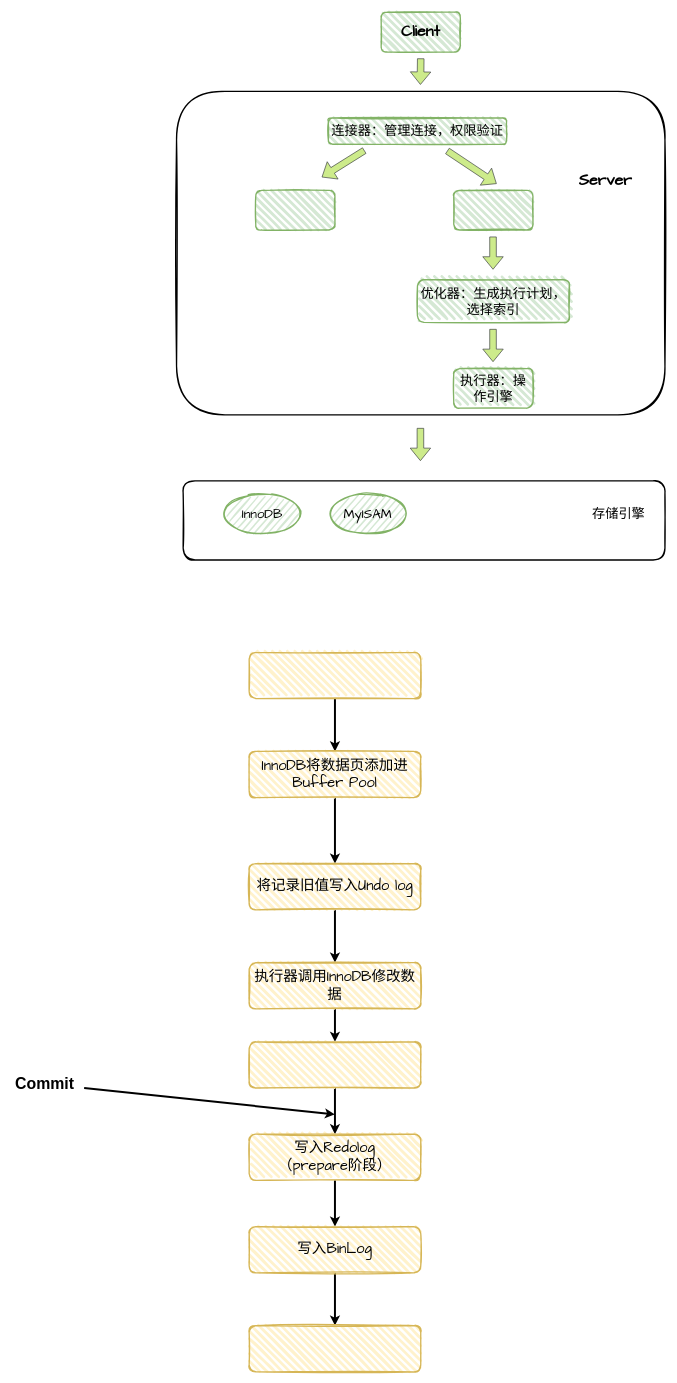
Some shapes in this 677 by 1383 pixel diagram are drawn without their labels. Here are the shapes that lost their labels. From the top down, the centre of each, then its label:
At (295,209): "缓存".
At (493,209): "分析器：词法分析".
At (334,675): "执行器想要更新记录".
At (334,1064): "InnoDB修改页为脏页，添加进Flush链表".
At (334,1348): "写入Redolog （commit状态）".
